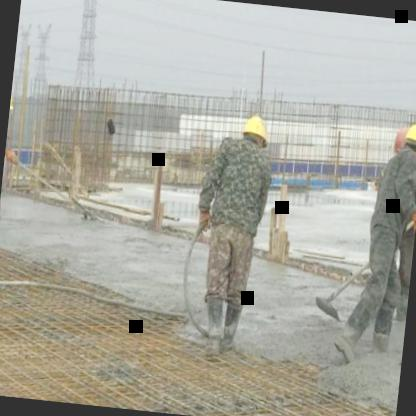helmet: (236, 110, 274, 158), (397, 120, 416, 166), (8, 89, 14, 118)
